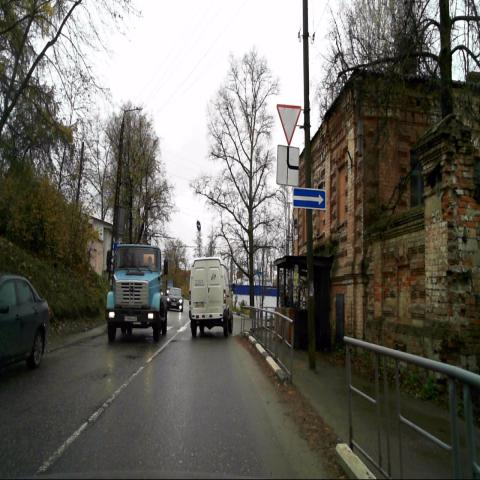5_7_1: (292, 187, 326, 210)
